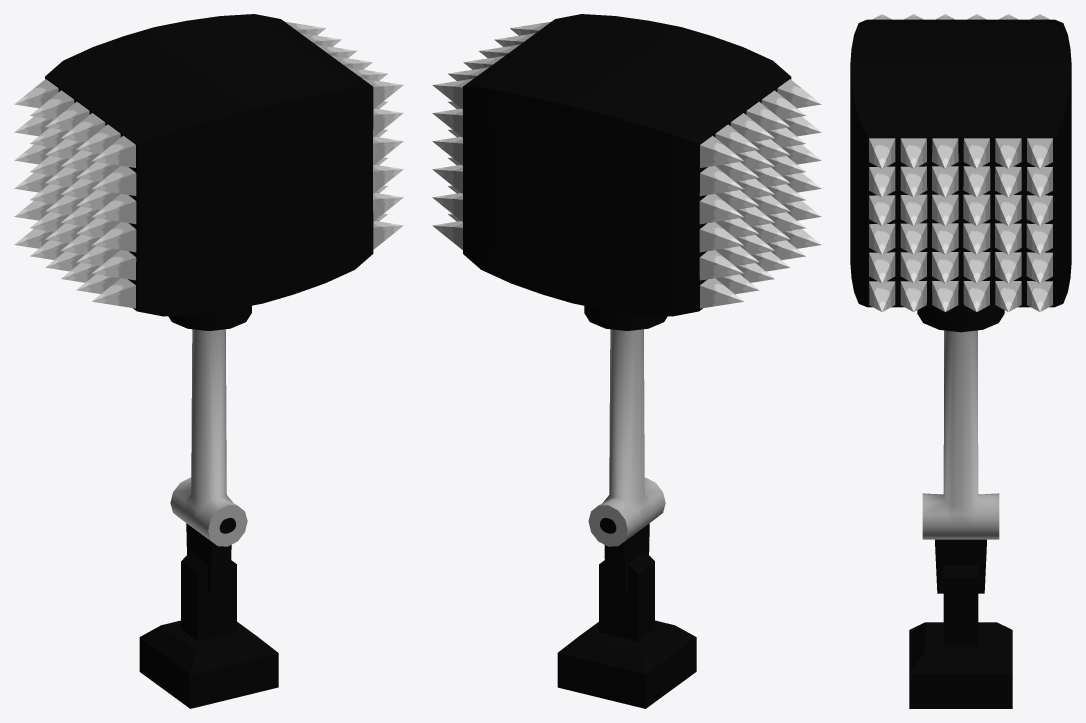
Rendered from trap_hammer.fbx.
3 views of the same model, side by side, from view 1: azimuth 30°, elevation 25°; view 2: azimuth 150°, elevation 25°; view 3: azimuth 270°, elevation 25° (orthographic).
Visible parts, largest first — view 1: Hammer, HammerStand; view 2: Hammer, HammerStand; view 3: Hammer, HammerStand.
Part boxes in pixels (x1=…): Hammer: x1=14, y1=14, x2=403, y2=546; HammerStand: x1=139, y1=523, x2=278, y2=708; Hammer: x1=432, y1=14, x2=821, y2=546; HammerStand: x1=557, y1=523, x2=696, y2=708; Hammer: x1=850, y1=14, x2=1071, y2=539; HammerStand: x1=909, y1=539, x2=1012, y2=708.
Size of the model in its own units: 377 by 707 by 227.
1 material, 1 textured.
